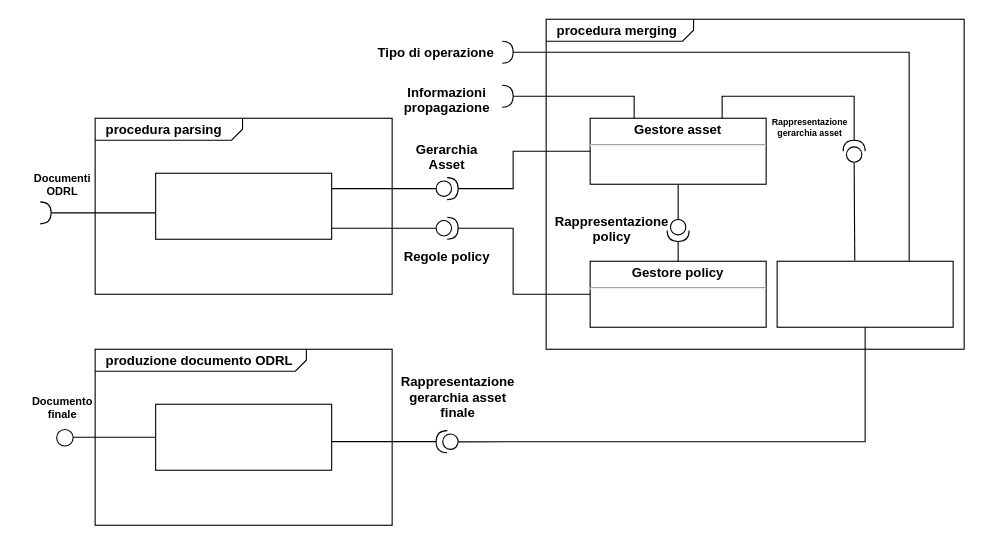
Image size: 983x545. Some labels were removed from this diagram. The shapes that lost their labels are listed below. From the top down, each one's centre as x and y in pixels, then its label:
(243,205): Parser ODRL
(864,293): Gestore operazione di merging
(243,436): Produttore documenti
